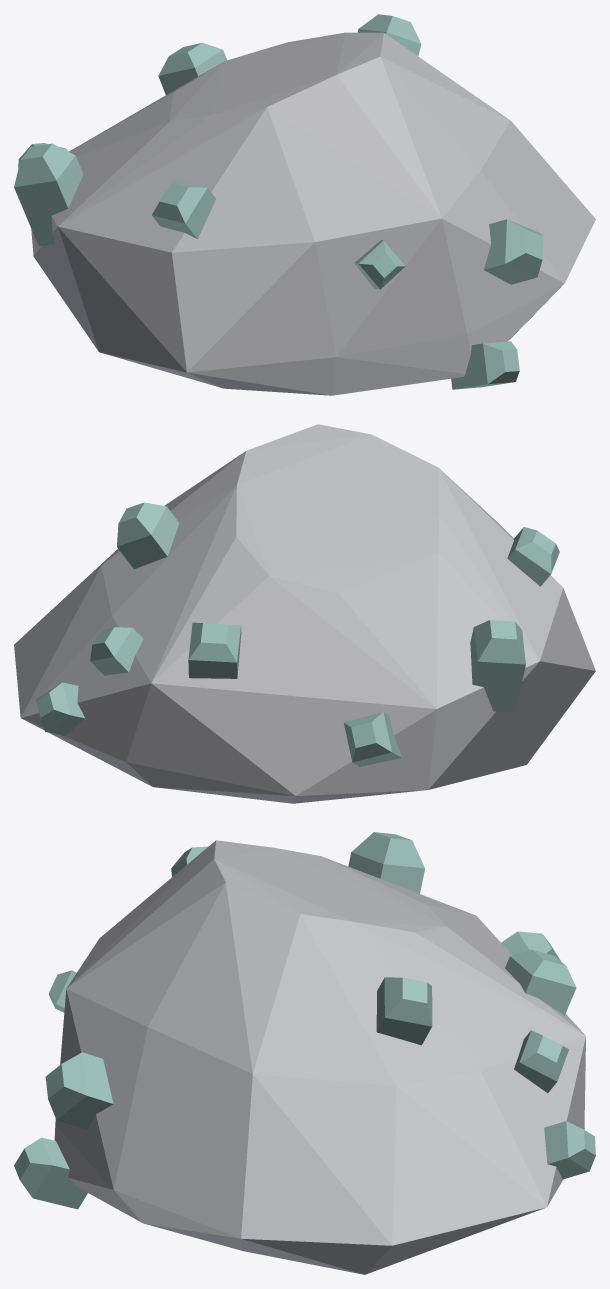
Rendered from SM_MR_Crystal_Small_02.fbx.
The picture shows the model from 3 angles, top to bottom: view 1: azimuth 30°, elevation 25°; view 2: azimuth 150°, elevation 25°; view 3: azimuth 270°, elevation 25°; orthographic projection. The views are drawn at different scales.
Visible parts, largest first — view 1: SM_MR_Crystal_Small_02; view 2: SM_MR_Crystal_Small_02; view 3: SM_MR_Crystal_Small_02.
Part boxes in pixels (x1,y1,x2,y2): SM_MR_Crystal_Small_02: (14,14,595,395); SM_MR_Crystal_Small_02: (14,424,595,803); SM_MR_Crystal_Small_02: (14,832,595,1274).
Bounding box in the file's own units: 0.35 × 0.3144 × 0.1852.
